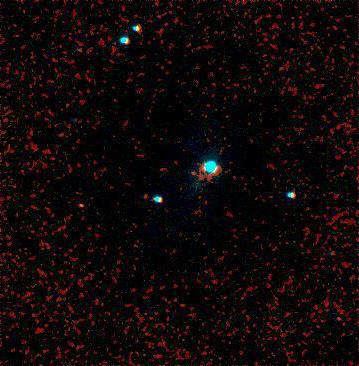star: (64, 190, 94, 220)
